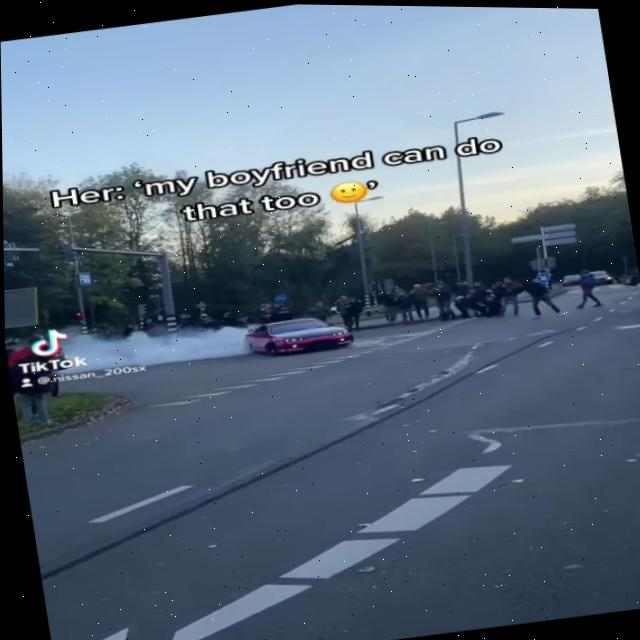vehicle: (240, 307, 358, 362)
